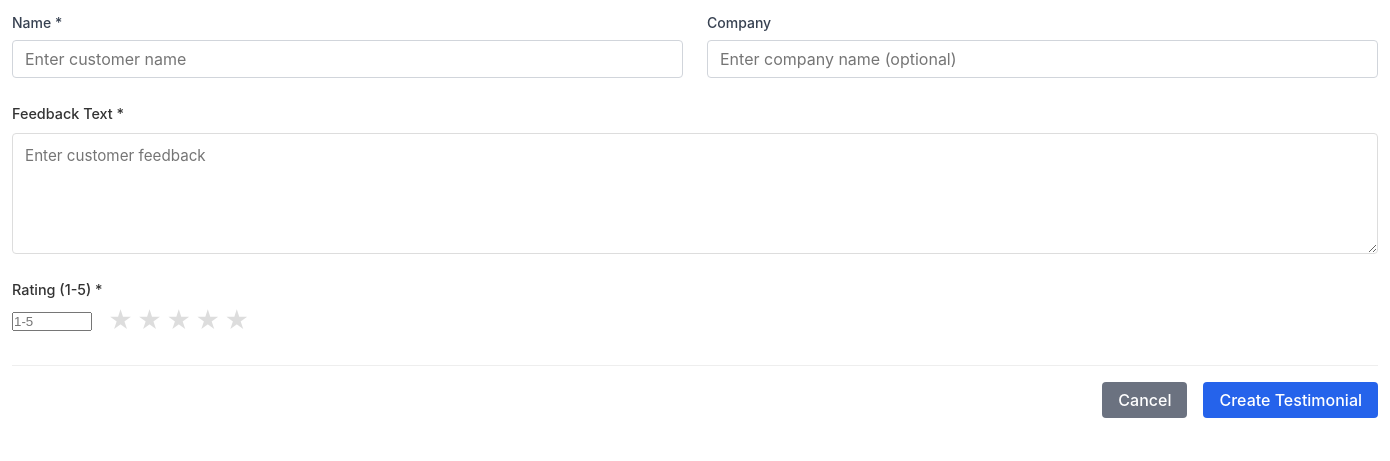
Test case: TestimonialForm - Real-time Validation › should display validation error when feedback text loses focus with empty value
// Focus and blur without entering value
Click the text box labelled "Feedback Text *".
click(695, 194)  # box [12,133,1378,254]
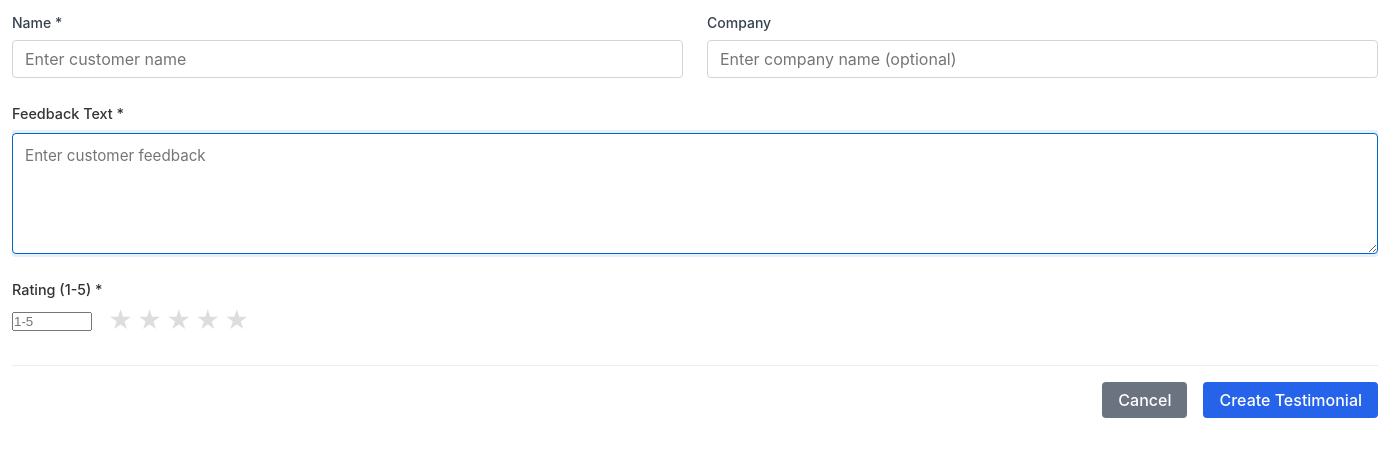
Press Tab
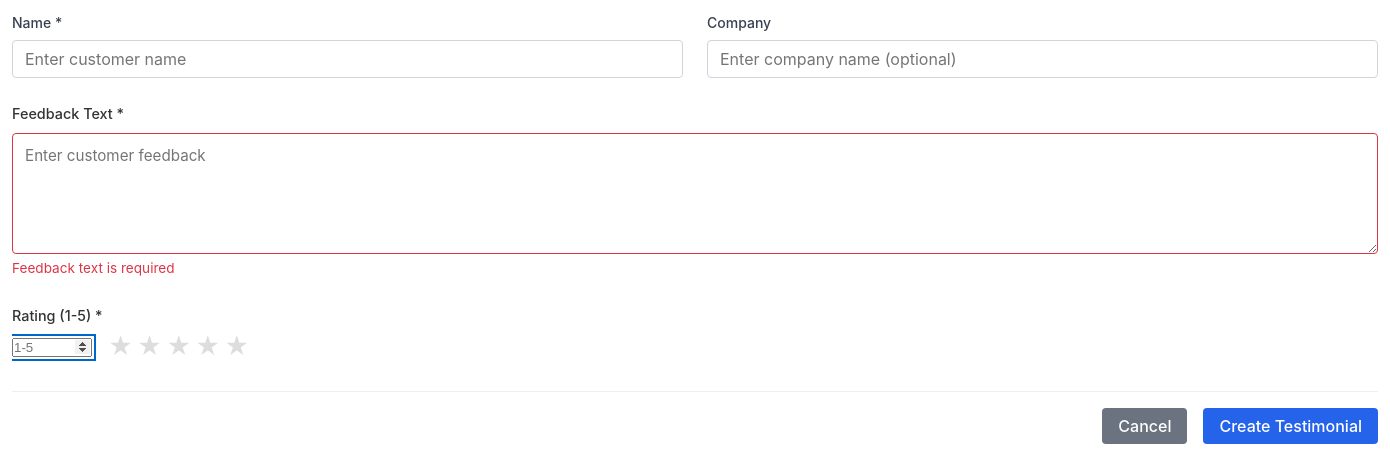
Check: the text "Feedback text is required" is shown, box [12,260,175,276]
